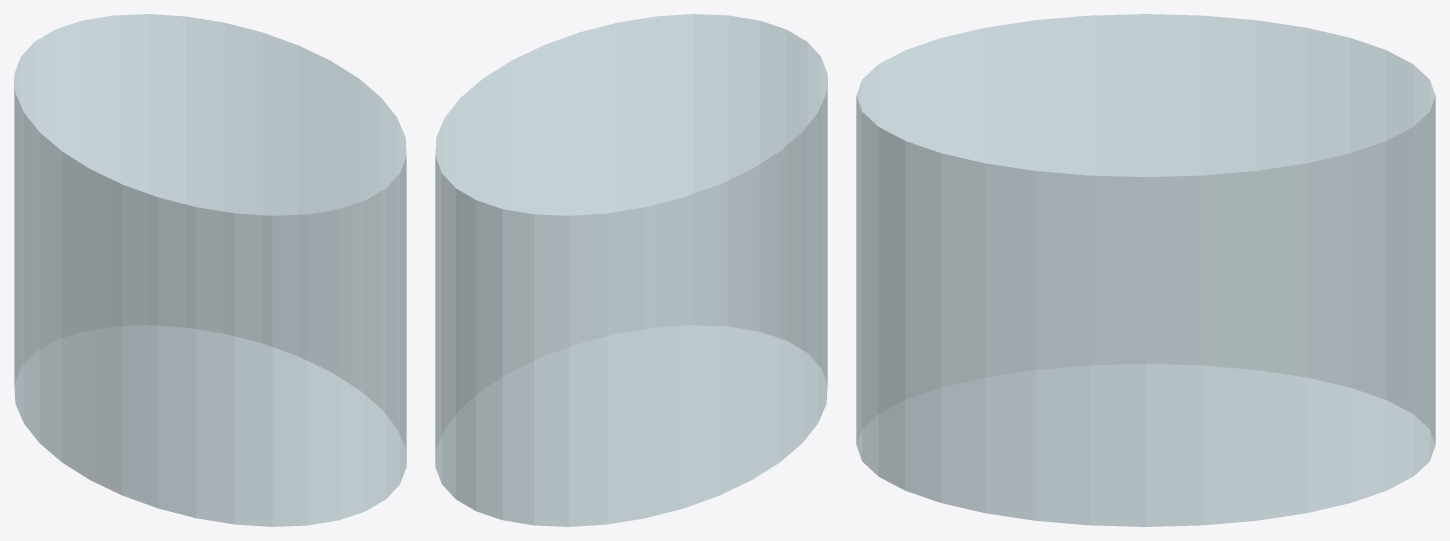
3 renders of one model, left to right at view 1: azimuth 30°, elevation 25°; view 2: azimuth 150°, elevation 25°; view 3: azimuth 270°, elevation 25°, orthographic. The views are drawn at different scales.
Parts seen in each view (by area): view 1: Cylinder; view 2: Cylinder; view 3: Cylinder.
Boxes of the visible parts, x1,y1,x2,y2 form: Cylinder: [14, 14, 406, 526]; Cylinder: [435, 14, 827, 526]; Cylinder: [856, 14, 1435, 526].
Bounding box in the file's own units: 0.2 × 0.2 × 0.3.
